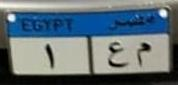1: (41, 41, 59, 72)
ain: (105, 40, 129, 71)
meem: (134, 40, 153, 71)
